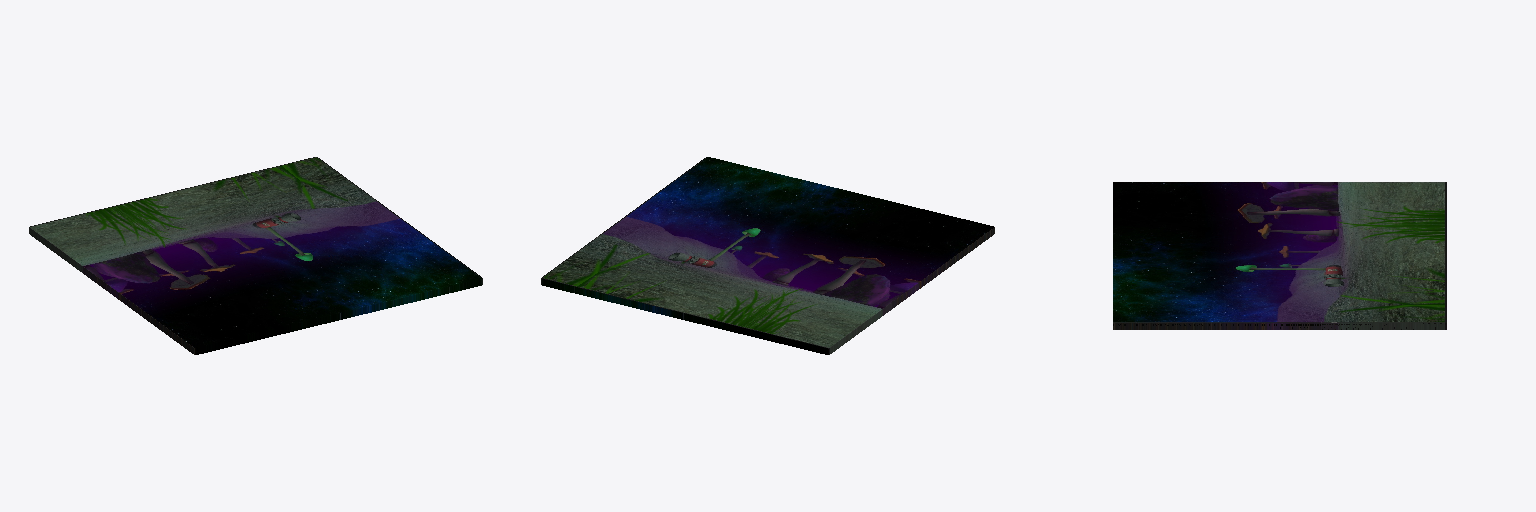
The picture shows the model from 3 angles: view 1: azimuth 30°, elevation 25°; view 2: azimuth 150°, elevation 25°; view 3: azimuth 270°, elevation 25°; orthographic projection.
Visible parts, largest first — view 1: Plane; view 2: Plane; view 3: Plane.
Boxes of the visible parts, x1,y1,x2,y2 form: Plane: [29, 157, 482, 354]; Plane: [541, 157, 994, 354]; Plane: [1113, 182, 1446, 329].
Size of the model in its own units: 4 by 0.0914 by 4.
Materials: 1 (1 with a texture image).